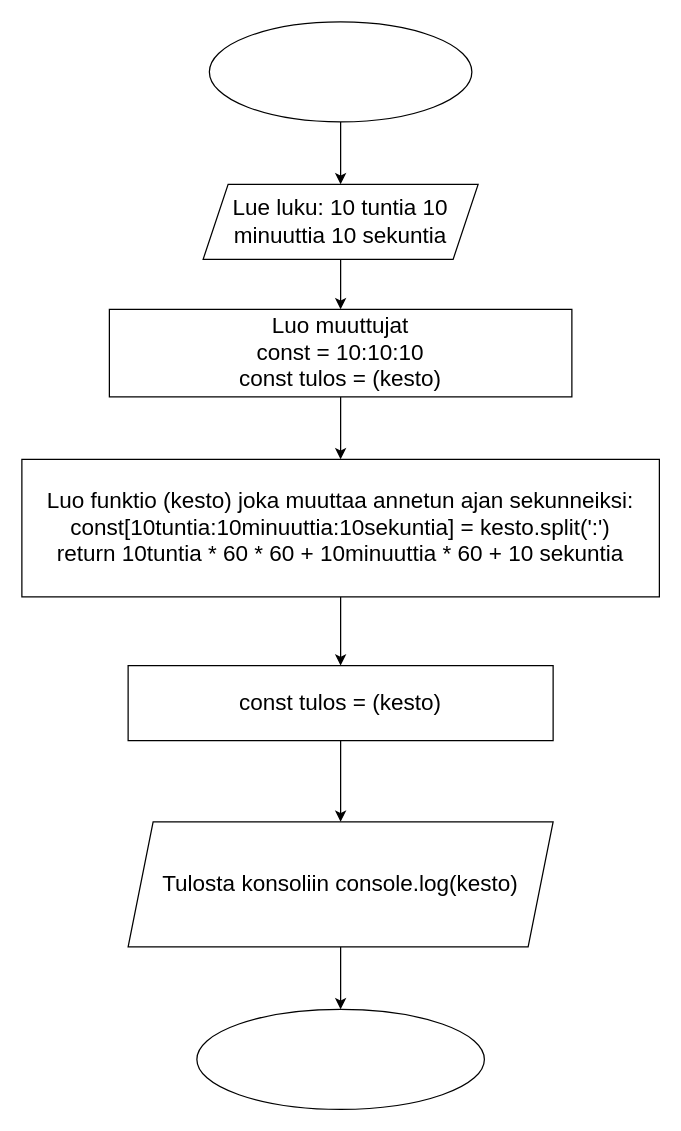
Image size: 681x1131. Some labels were removed from this diagram. The centre of each missing label's shape, as x and y in pixels:
"Aloitus" goes at (x=340, y=71).
"Loppu" goes at (x=340, y=1058).
